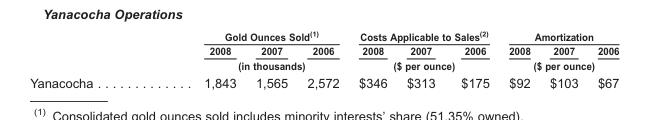table: (29, 29, 618, 89)
table column: (29, 29, 147, 89), (147, 29, 245, 89), (296, 29, 348, 89), (245, 29, 296, 89), (396, 29, 447, 89), (447, 29, 498, 89), (348, 29, 396, 89), (539, 29, 587, 89), (498, 29, 539, 89), (587, 29, 618, 89)
table column header: (29, 29, 618, 72)
table row: (29, 72, 618, 89), (29, 57, 618, 72), (29, 29, 618, 43), (29, 43, 618, 57)
table spanning cell: (147, 57, 348, 72), (147, 29, 348, 43), (348, 57, 498, 72), (348, 29, 498, 43), (498, 57, 618, 72), (498, 29, 618, 43)
